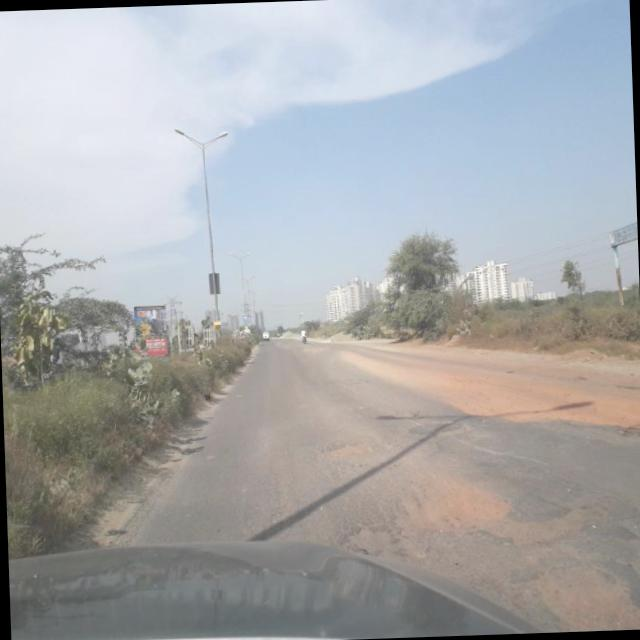crack: (258, 411, 406, 542), (443, 430, 558, 467)
pothole: (398, 448, 611, 546), (418, 351, 640, 443), (509, 541, 640, 632), (338, 521, 401, 557), (316, 427, 378, 463)
